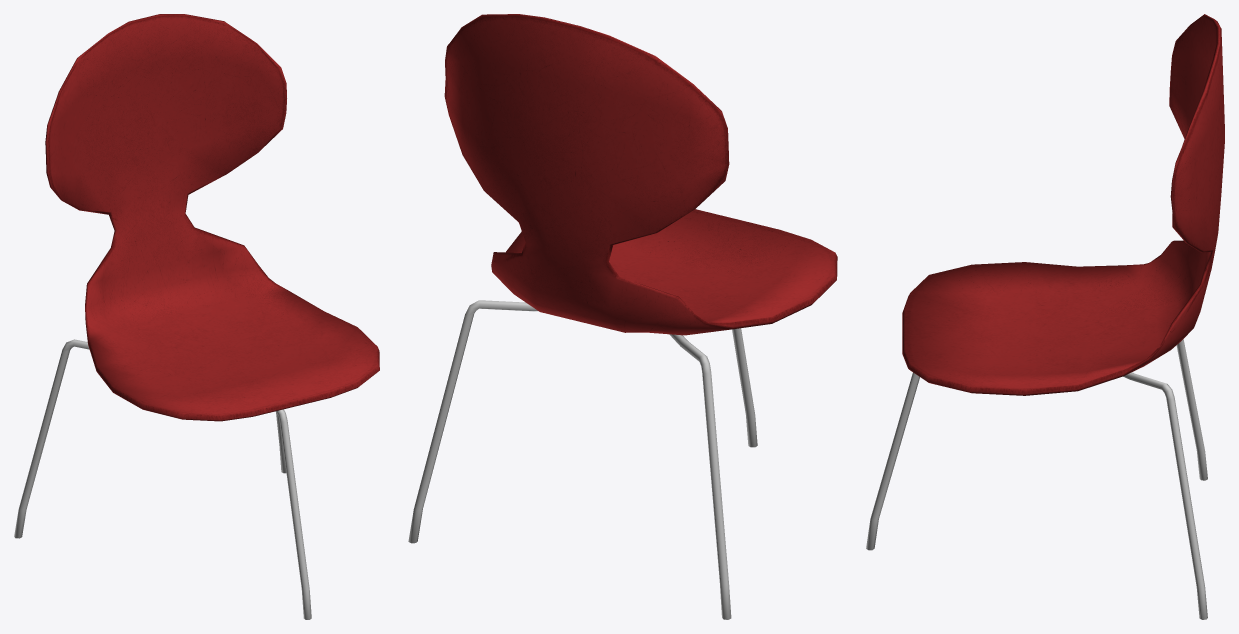
File: maur.fbx
3 views of the same model, side by side, from view 1: azimuth 30°, elevation 25°; view 2: azimuth 150°, elevation 25°; view 3: azimuth 270°, elevation 25° (orthographic). The views are drawn at different scales.
Visible parts, largest first — view 1: Maur; view 2: Maur; view 3: Maur.
Boxes of the visible parts, left/top/right/bottom form: Maur: left=14, top=14, right=379, bottom=619; Maur: left=408, top=14, right=837, bottom=619; Maur: left=866, top=14, right=1224, bottom=619.
Bounding box in the file's own units: 572 × 960 × 607.
